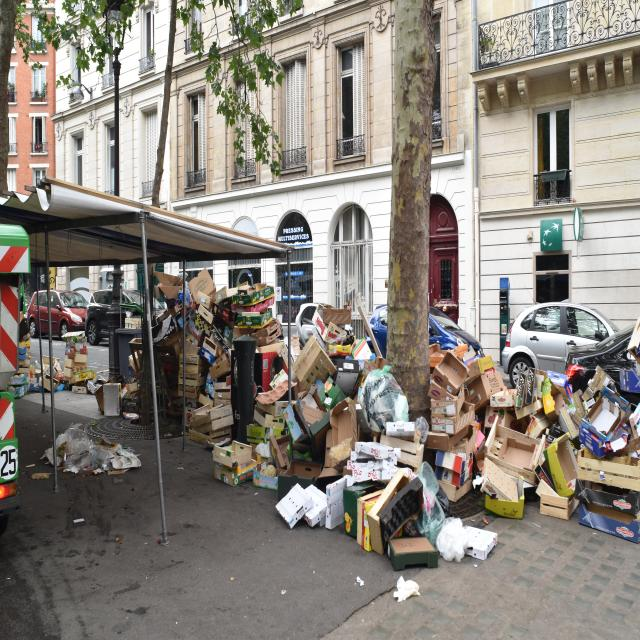lixo domiciliar: (287, 359, 458, 572), (222, 285, 384, 476), (487, 351, 640, 549), (89, 266, 229, 437), (421, 328, 497, 506), (31, 425, 144, 487), (12, 333, 92, 398), (272, 482, 334, 530), (209, 441, 259, 490), (449, 518, 500, 566), (393, 576, 421, 602)
